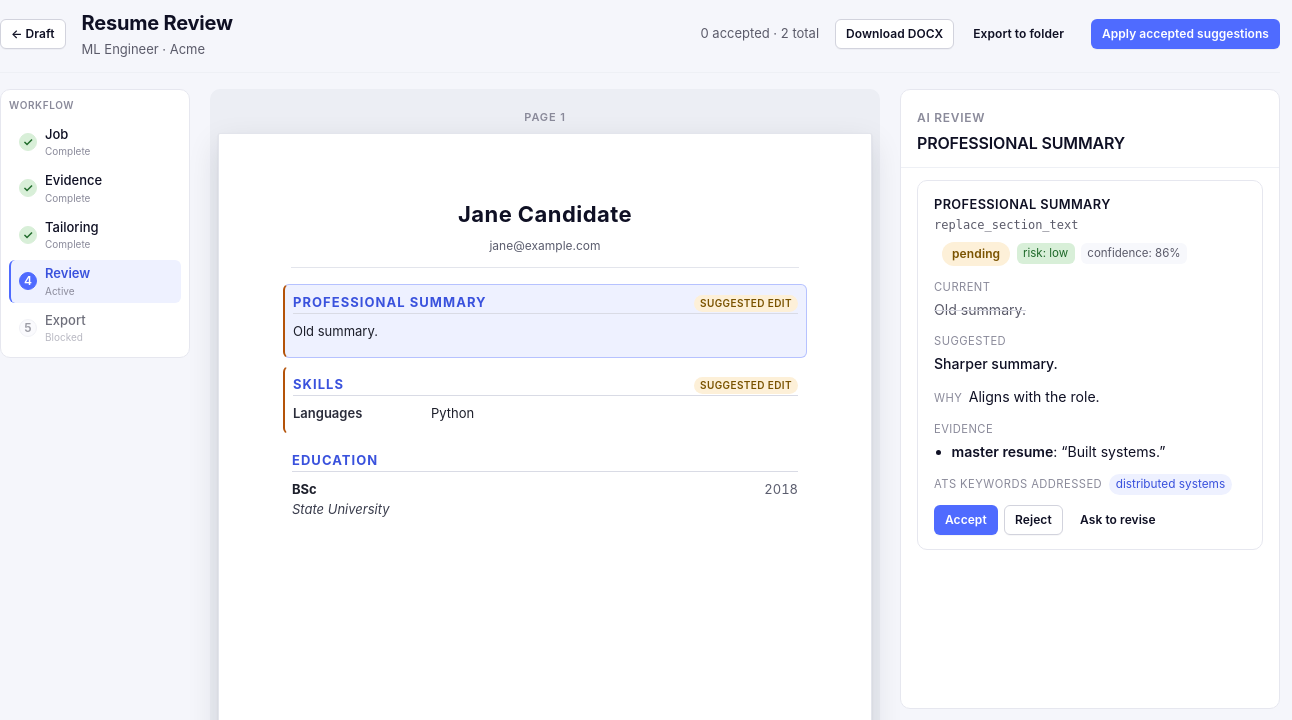
ResumeReviewPage workspace (task 114) › clicking a section opens its suggestions in the review panel
This screenshot has width=1292, height=720.
Click the button with test id "doc-section-skills": (546, 385) top-left (283, 366), bottom-right (807, 434)
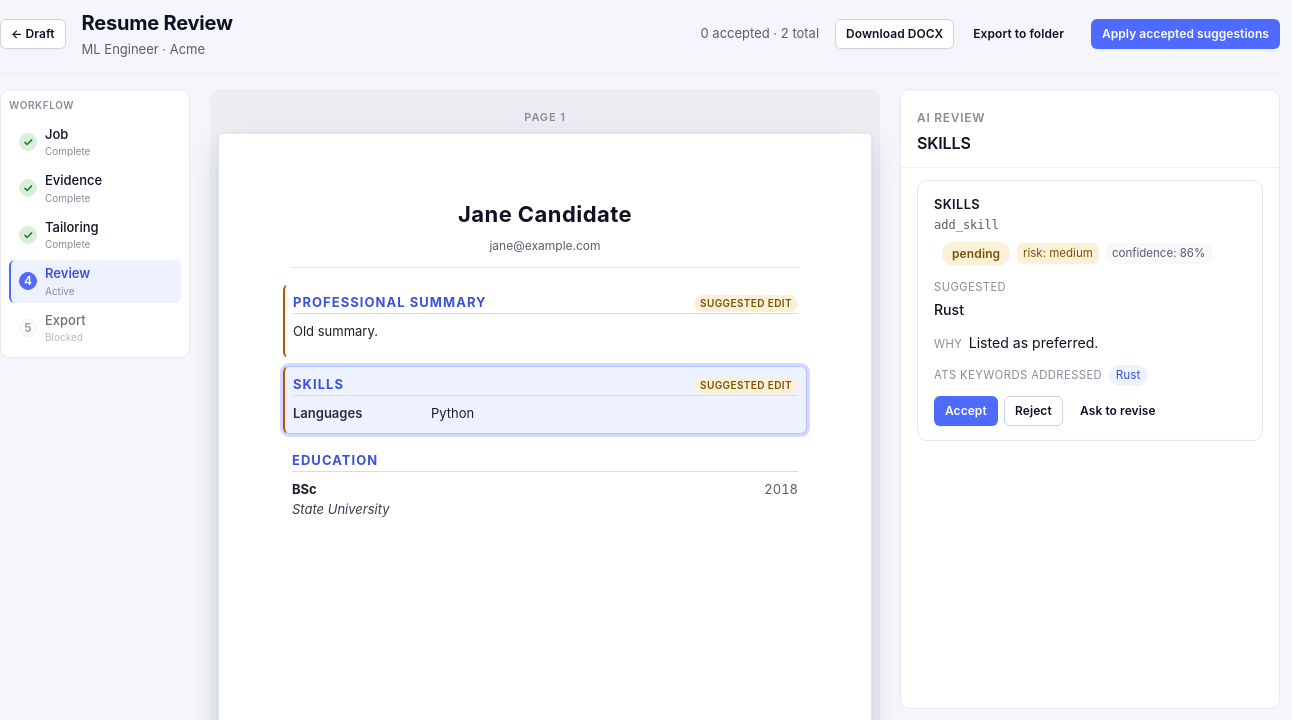
Expected: the element with test id "suggestion-card-sug_002" is shown, top-left (917, 180), bottom-right (1263, 441)
Expected: the text "Listed as preferred." is shown, top-left (969, 334), bottom-right (1098, 351)
